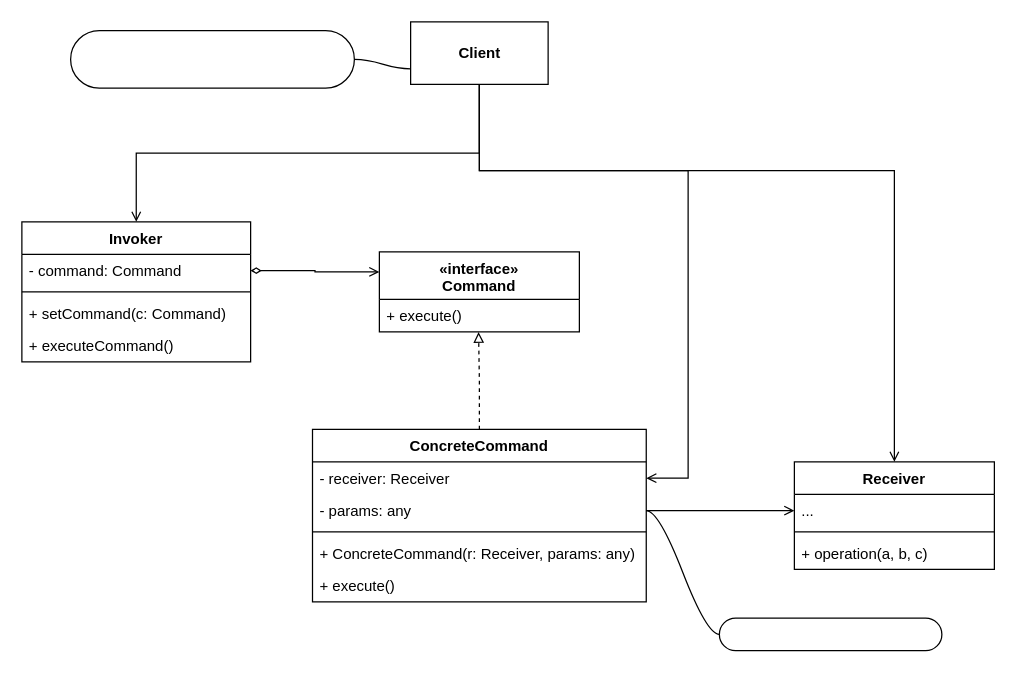
Some shapes in this 1016 by 673 pixel diagram are drawn without their labels. Each missing label, with the centre of its shape:
"copy = new CopyCommand(editor) button.setCommand(copy)" goes at point 211,58.
"receiver.opeartion(params)" goes at point 830,634.
